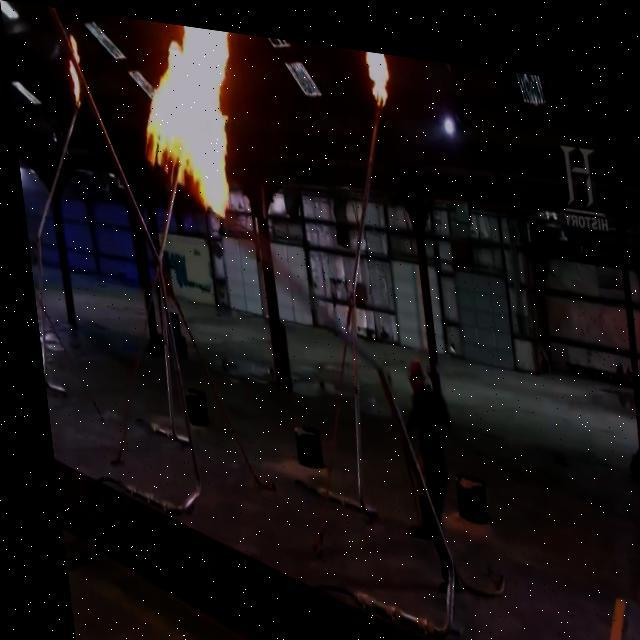Fire: (121, 19, 250, 218), (359, 48, 395, 100), (60, 29, 84, 102)
